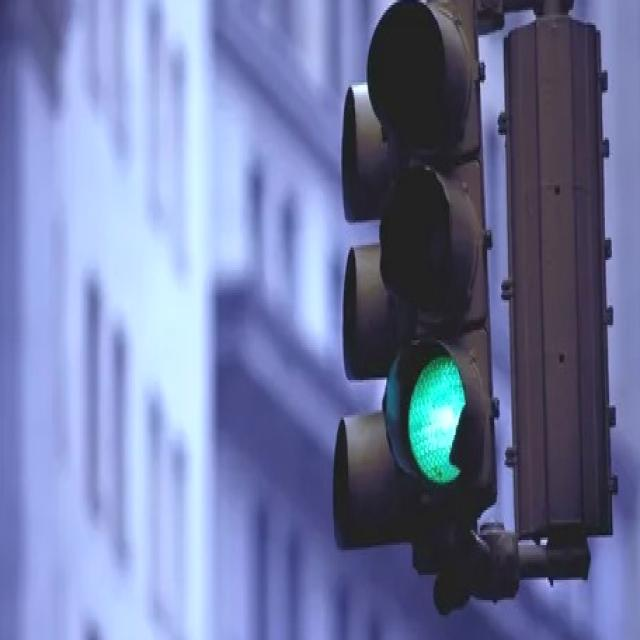yesil: (367, 0, 497, 528)
